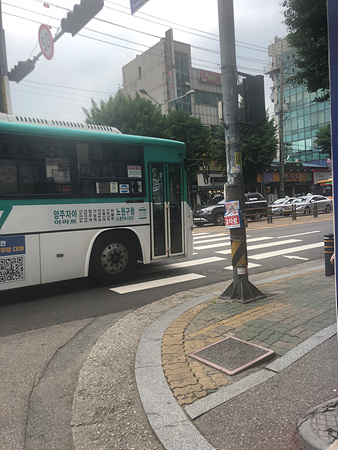entrance: (145, 158, 186, 259)
